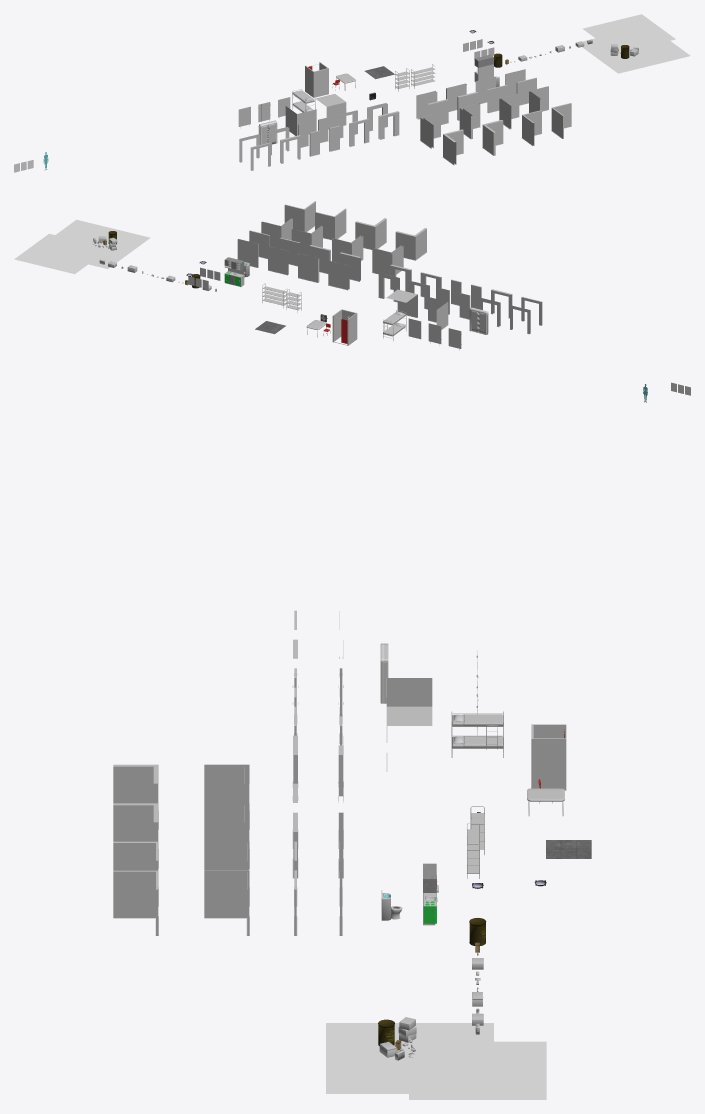
File: SNWP_MOD_BUN_Inner_wall_06_TD.fbx
3 views of the same model, one above another, from view 1: azimuth 30°, elevation 25°; view 2: azimuth 150°, elevation 25°; view 3: azimuth 270°, elevation 25° (orthographic). The views are drawn at different scales.
Parts seen in each view (by area): view 1: Plane.001, Plane, SNWP_MOD_Shower, SNWP_MOD_Bunker_wall_02.001, SNWP_MOD_Bunker_inner_wall_corner_03_TD, SNWP_MOD_Bunker_inner_wall_corner_03, SNWP_MOD_Bunker_inner_wall_corner_04_TD, SNWP_MOD_Bunker_inner_wall_corner_04, SNWP_MOD_Bunker_inner_wall_corner_01_TD, SNWP_MOD_Bunker_inner_wall_corner_02, SNWP_MOD_Bunker_inner_wall_corner_02_TD, SNWP_MOD_Bunker_inner_wall_corner_01 (+16 smaller); view 2: Plane.001, Plane, SNWP_MOD_Shower, SNWP_MOD_Bunker_inner_wall_corner_04_TD, SNWP_MOD_Bunker_inner_wall_corner_03_TD, SNWP_MOD_Bunker_inner_wall_corner_04, SNWP_MOD_Bunker_inner_wall_corner_02_TD, SNWP_MOD_Bunker_inner_wall_corner_01_TD, SNWP_MOD_Bunker_inner_wall_corner_03, SNWP_MOD_Bunker_inner_wall_corner_02, SNWP_MOD_Bunker_inner_wall_corner_01, SNWP_MOD_Bunker_inner_wall_04 (+10 smaller); view 3: Plane.001, Plane, SNWP_MOD_Shower, SNWP_MOD_Bunker_inner_wall_corner_01_TD, SNWP_MOD_Bunker_inner_wall_corner_01, SNWP_MOD_Bunker_inner_wall_corner_04_TD, SNWP_MOD_Bunker_inner_wall_corner_04, SNWP_MOD_Bunker_inner_wall_corner_03_TD, SNWP_MOD_Bunker_inner_wall_corner_03, SNWP_MOD_Bunker_inner_wall_corner_02_TD, SNWP_MOD_Bunker_inner_wall_corner_02, SNWP_MOD_Bunker_wall_02.001.
Part boxes in pixels (<box>): Plane.001: <box>582,25,690,73</box>; Plane: <box>582,14,675,40</box>; SNWP_MOD_Shower: <box>305,62,328,97</box>; SNWP_MOD_Bunker_wall_02.001: <box>285,106,316,135</box>; SNWP_MOD_Bunker_inner_wall_corner_03_TD: <box>482,120,503,155</box>; SNWP_MOD_Bunker_inner_wall_corner_03: <box>459,103,480,139</box>; SNWP_MOD_Bunker_inner_wall_corner_04_TD: <box>443,129,463,165</box>; SNWP_MOD_Bunker_inner_wall_corner_04: <box>420,113,440,148</box>; SNWP_MOD_Bunker_inner_wall_corner_01_TD: <box>551,103,571,138</box>; SNWP_MOD_Bunker_inner_wall_corner_02: <box>499,93,519,129</box>; SNWP_MOD_Bunker_inner_wall_corner_02_TD: <box>522,110,541,145</box>; SNWP_MOD_Bunker_inner_wall_corner_01: <box>529,86,548,112</box>; Plane.001: <box>34,219,150,268</box>; Plane: <box>14,233,87,274</box>; SNWP_MOD_Shower: <box>332,309,357,345</box>; SNWP_MOD_Bunker_inner_wall_corner_04_TD: <box>395,228,426,260</box>; SNWP_MOD_Bunker_inner_wall_corner_03_TD: <box>355,218,386,249</box>; SNWP_MOD_Bunker_inner_wall_corner_04: <box>372,245,403,275</box>; SNWP_MOD_Bunker_inner_wall_corner_02_TD: <box>315,208,346,240</box>; SNWP_MOD_Bunker_inner_wall_corner_01_TD: <box>284,201,315,232</box>; SNWP_MOD_Bunker_inner_wall_corner_03: <box>332,235,363,263</box>; SNWP_MOD_Bunker_inner_wall_corner_02: <box>291,226,322,255</box>; SNWP_MOD_Bunker_inner_wall_corner_01: <box>261,218,292,248</box>; SNWP_MOD_Bunker_inner_wall_04: <box>328,261,349,290</box>; Plane.001: <box>326,1023,493,1093</box>; Plane: <box>409,1041,546,1099</box>; SNWP_MOD_Shower: <box>531,724,566,790</box>; SNWP_MOD_Bunker_inner_wall_corner_01_TD: <box>113,870,158,935</box>; SNWP_MOD_Bunker_inner_wall_corner_01: <box>204,870,249,935</box>; SNWP_MOD_Bunker_inner_wall_corner_04_TD: <box>113,764,158,829</box>; SNWP_MOD_Bunker_inner_wall_corner_04: <box>204,764,249,829</box>; SNWP_MOD_Bunker_inner_wall_corner_03_TD: <box>113,803,158,868</box>; SNWP_MOD_Bunker_inner_wall_corner_03: <box>204,803,249,868</box>; SNWP_MOD_Bunker_inner_wall_corner_02_TD: <box>113,841,158,906</box>; SNWP_MOD_Bunker_inner_wall_corner_02: <box>204,841,249,906</box>; SNWP_MOD_Bunker_wall_02.001: <box>386,678,432,742</box>.
Bounding box in the file's own units: 65.42 × 2.78 × 21.
